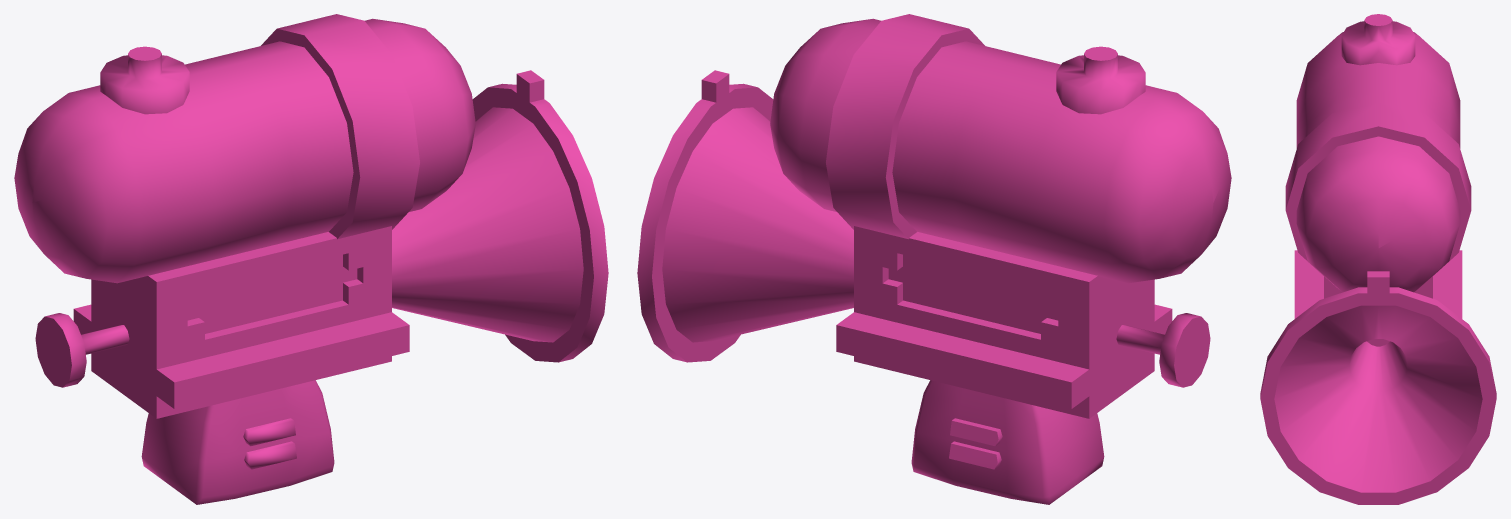
Rendered from RipScript.fbx.
The picture shows the model from 3 angles, left to right: view 1: azimuth 30°, elevation 25°; view 2: azimuth 150°, elevation 25°; view 3: azimuth 270°, elevation 25°; orthographic projection. The views are drawn at different scales.
Visible parts, largest first — view 1: 000-0-0; view 2: 000-0-0; view 3: 000-0-0.
Part boxes in pixels (left/top/right/bottom): 000-0-0: left=14, top=14, right=608, bottom=504; 000-0-0: left=637, top=14, right=1231, bottom=504; 000-0-0: left=1260, top=14, right=1496, bottom=504.
Size of the model in its own units: 0.7931 by 0.6625 by 0.3856.
